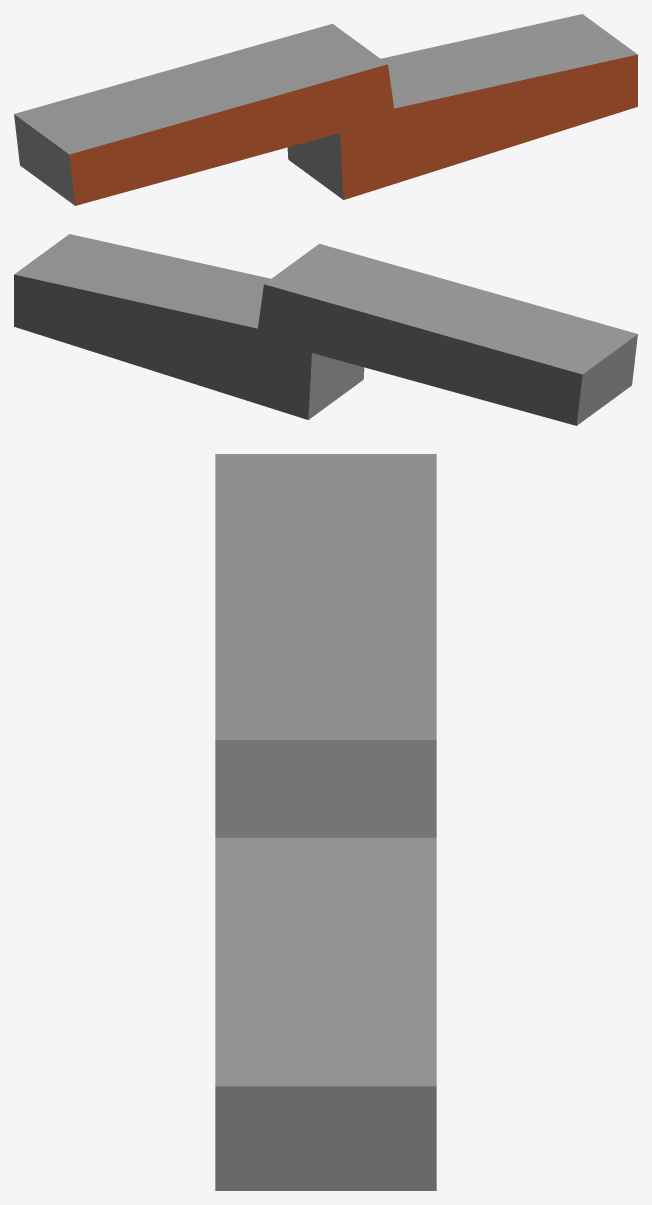
The model's file is construction_1114_assumed_A_Casa_h6m.obj.
3 renders of one model, top to bottom at view 1: azimuth 30°, elevation 25°; view 2: azimuth 150°, elevation 25°; view 3: azimuth 270°, elevation 25°, orthographic. The views are drawn at different scales.
Visible parts, largest first — view 1: construction_1114_assumed_A_Casa; view 2: construction_1114_assumed_A_Casa; view 3: construction_1114_assumed_A_Casa.
Part boxes in pixels (bbox=[...]): construction_1114_assumed_A_Casa: bbox=[14, 14, 637, 205]; construction_1114_assumed_A_Casa: bbox=[14, 234, 637, 425]; construction_1114_assumed_A_Casa: bbox=[215, 454, 436, 1190].
Size of the model in its own units: 35.58 by 7.48 by 6.
